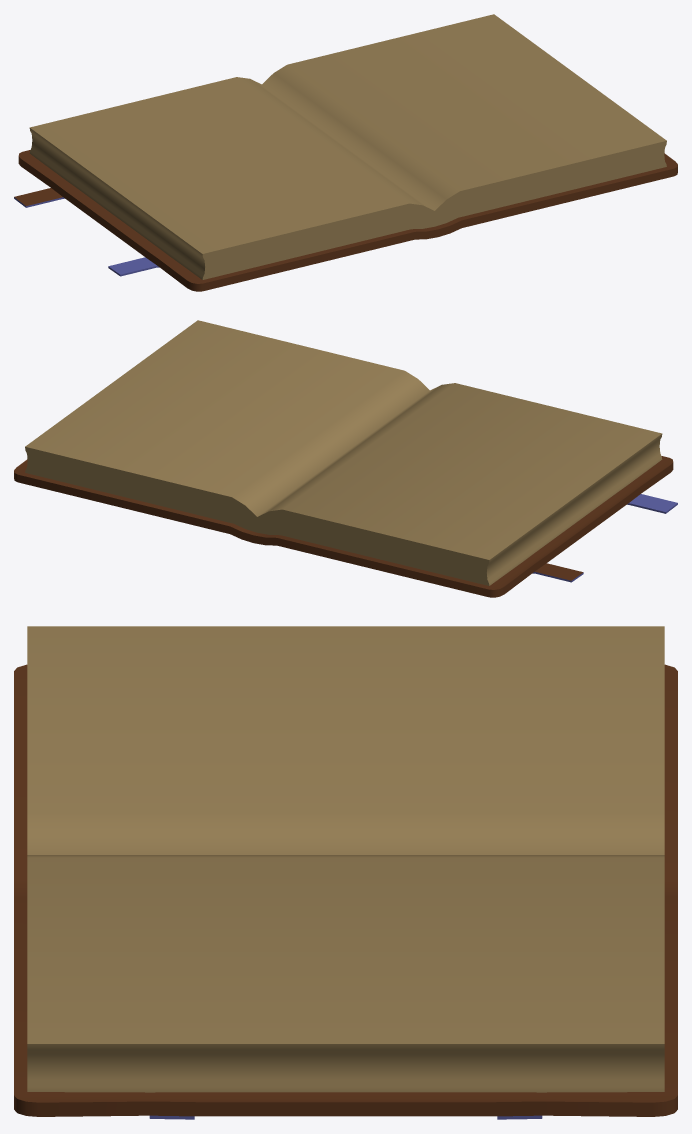
The model's file is Prop_UiBook_Fabi_M.fbx.
3 views of the same model, one above another, from view 1: azimuth 30°, elevation 25°; view 2: azimuth 150°, elevation 25°; view 3: azimuth 270°, elevation 25° (orthographic). The views are drawn at different scales.
Visible parts, largest first — view 1: UI_Book; view 2: UI_Book; view 3: UI_Book.
Boxes of the visible parts, left/top/right/bottom form: UI_Book: left=14, top=14, right=677, bottom=291; UI_Book: left=14, top=320, right=677, bottom=597; UI_Book: left=14, top=626, right=677, bottom=1119.
Bounding box in the file's own units: 35.34 × 2.51 × 21.
